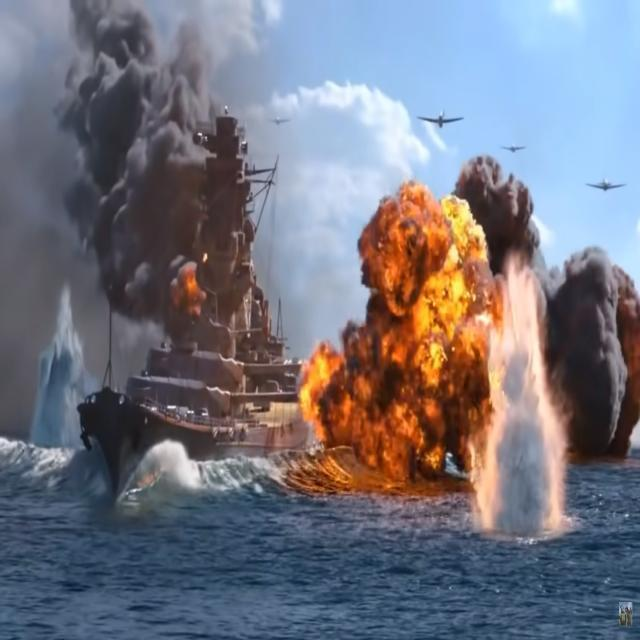fire: (280, 145, 638, 505)
